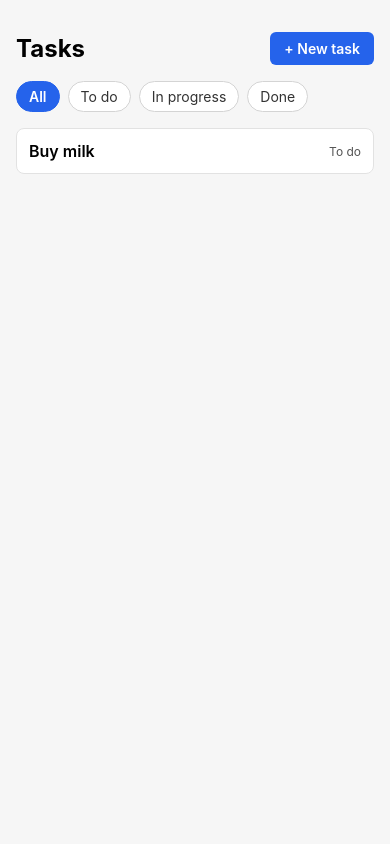
Scenario: TasksScreen › shows duplicate title error and keeps the modal open
The width and height of the screenshot is (390, 844).
Click the text "Buy milk".
click(62, 151)  # box [29, 141, 95, 161]
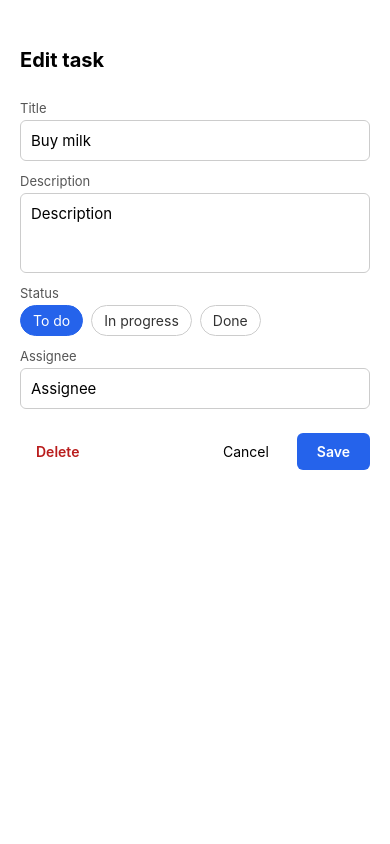
Check: the text "Edit task" is shown, box [20, 48, 104, 72]
Click the text "Save".
click(333, 452)  # box [317, 443, 350, 460]
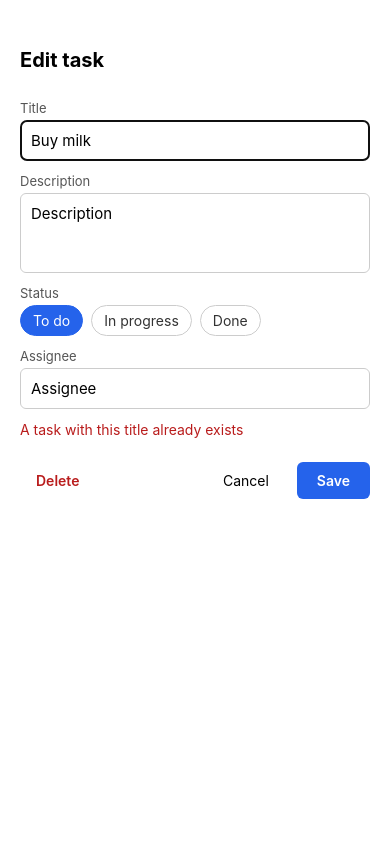
Check: the text "Edit task" is shown, box [20, 48, 104, 72]
Check: the text "A task with this title already exists" is shown, box [20, 421, 243, 438]
